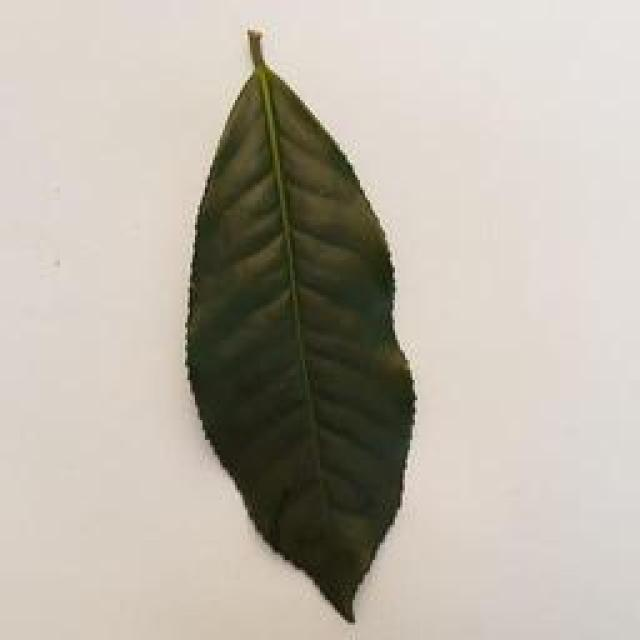Healthy: (183, 22, 419, 630)
